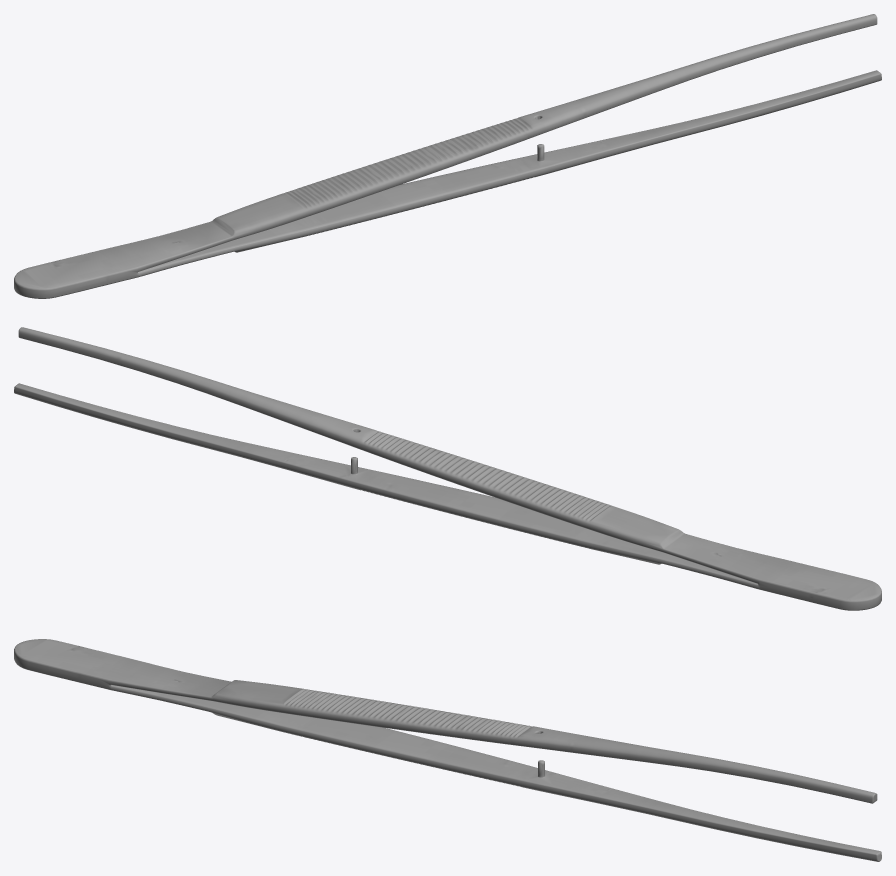
Rendered from instrument_forceps_a01.glb.
3 renders of one model, top to bottom at view 1: azimuth 30°, elevation 25°; view 2: azimuth 150°, elevation 25°; view 3: azimuth 330°, elevation 25°, orthographic.
Visible parts, largest first — view 1: forceps_01_mesh_00; view 2: forceps_01_mesh_00; view 3: forceps_01_mesh_00.
Boxes of the visible parts, x1=… form: forceps_01_mesh_00: x1=14, y1=14, x2=881, y2=298; forceps_01_mesh_00: x1=14, y1=327, x2=881, y2=610; forceps_01_mesh_00: x1=14, y1=639, x2=881, y2=861.
Size of the model in its own units: 0.1801 by 0.0148 by 0.0101.
Materials: 1 (1 with a texture image).
